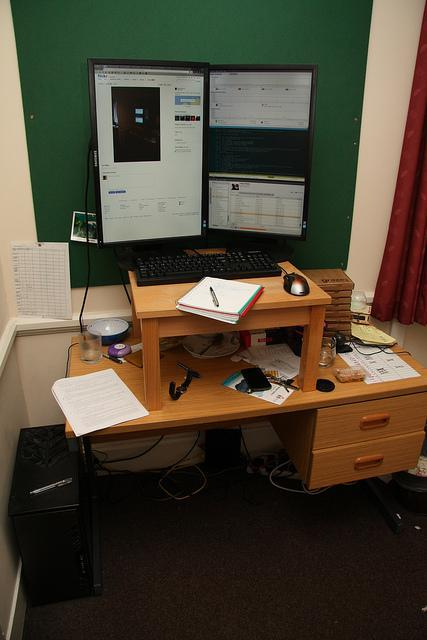tv: (97, 67, 308, 266)
